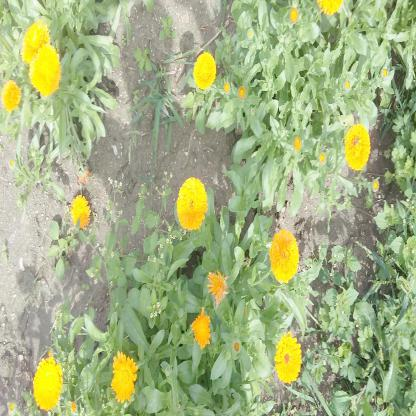marigold: (177, 177, 206, 230), (34, 358, 62, 408), (31, 46, 59, 96), (271, 231, 299, 280), (275, 334, 302, 380), (22, 20, 50, 60), (113, 355, 136, 401), (347, 126, 370, 170), (194, 54, 216, 88), (2, 79, 20, 113)
